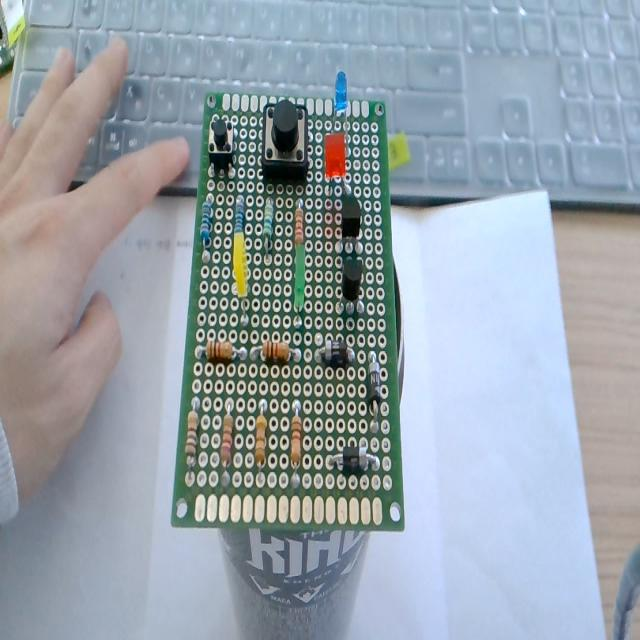diode: (325, 443, 381, 473), (366, 346, 384, 434), (314, 334, 358, 366)
led: (322, 131, 358, 205), (325, 71, 352, 156), (231, 229, 253, 327), (289, 240, 310, 330)
resistor: (247, 336, 307, 374), (190, 331, 247, 370), (180, 391, 202, 490), (250, 397, 272, 486), (216, 395, 237, 486), (288, 396, 304, 486), (197, 190, 215, 266), (260, 198, 276, 266), (229, 193, 245, 239), (292, 199, 304, 249)
switch: (259, 96, 311, 188), (202, 114, 242, 180)
transistor: (334, 256, 368, 318), (335, 192, 367, 257)
